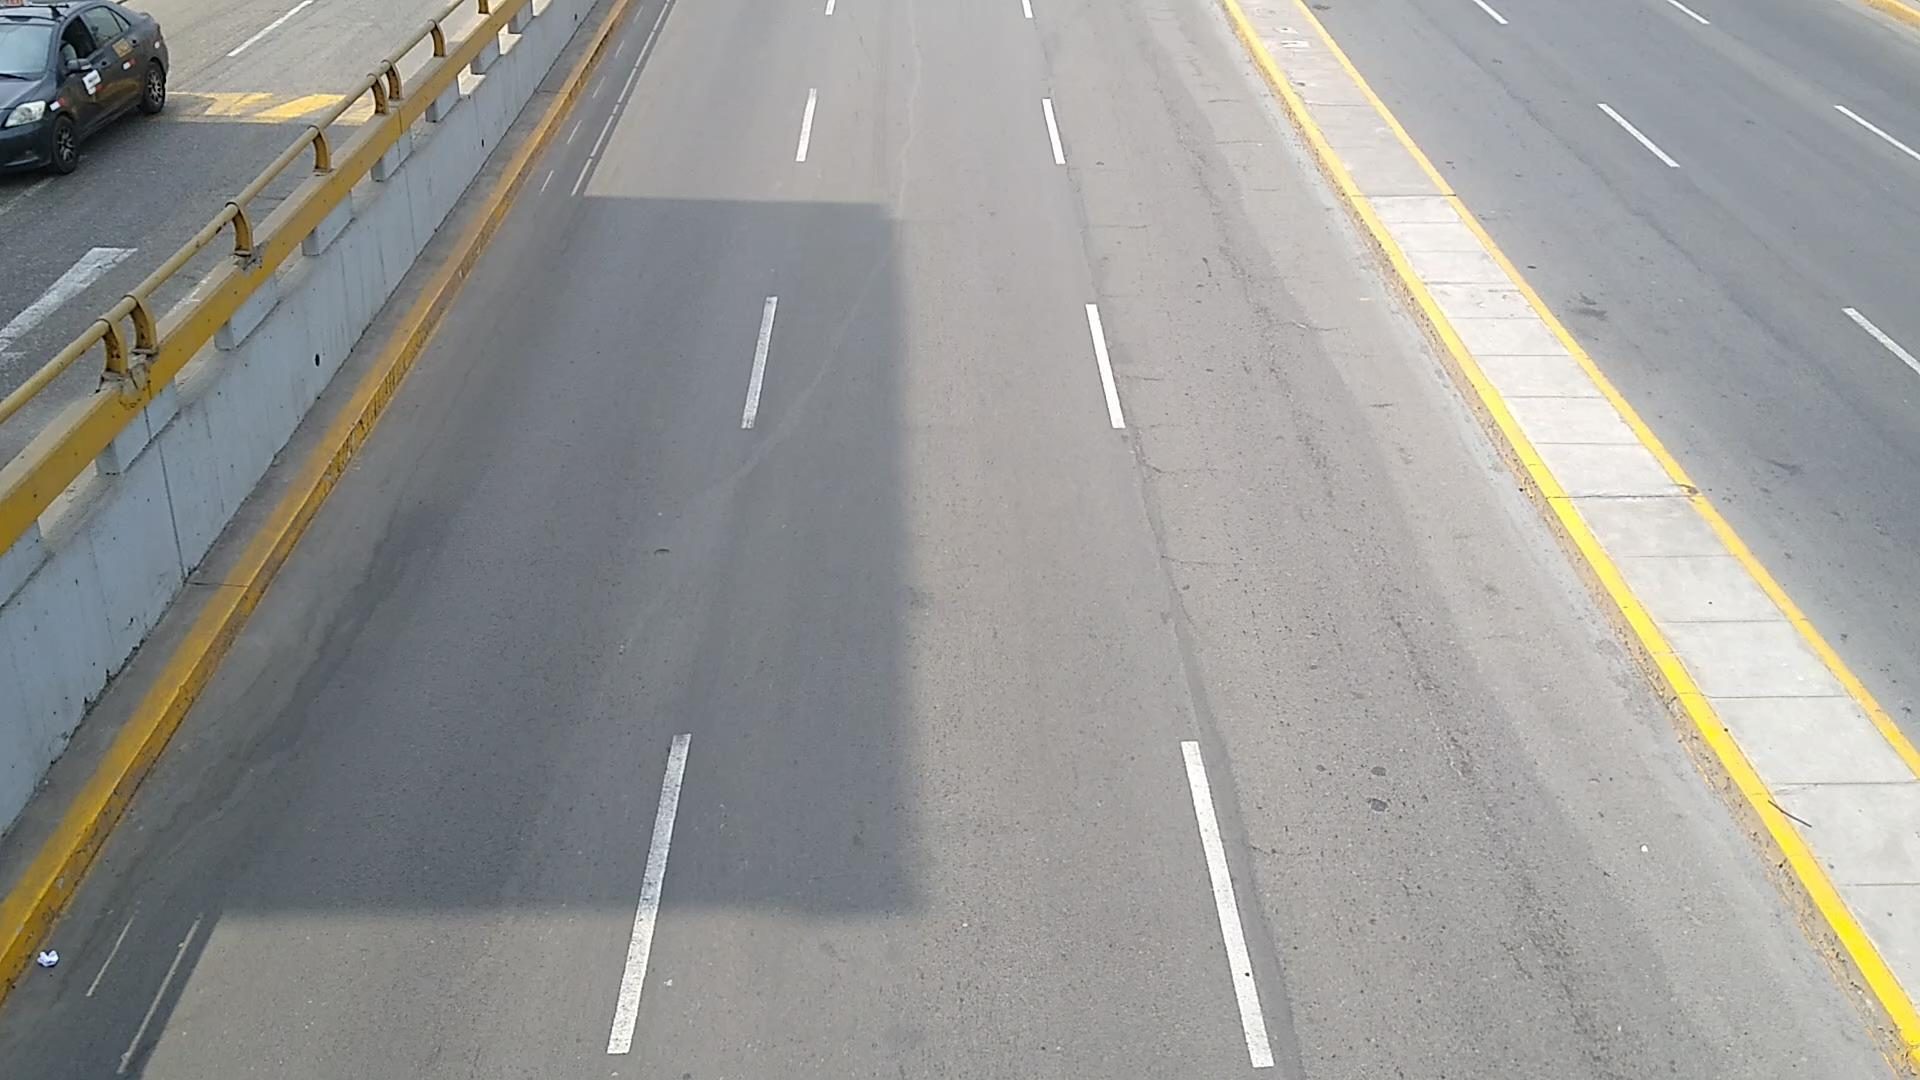car: (0, 0, 169, 170)
